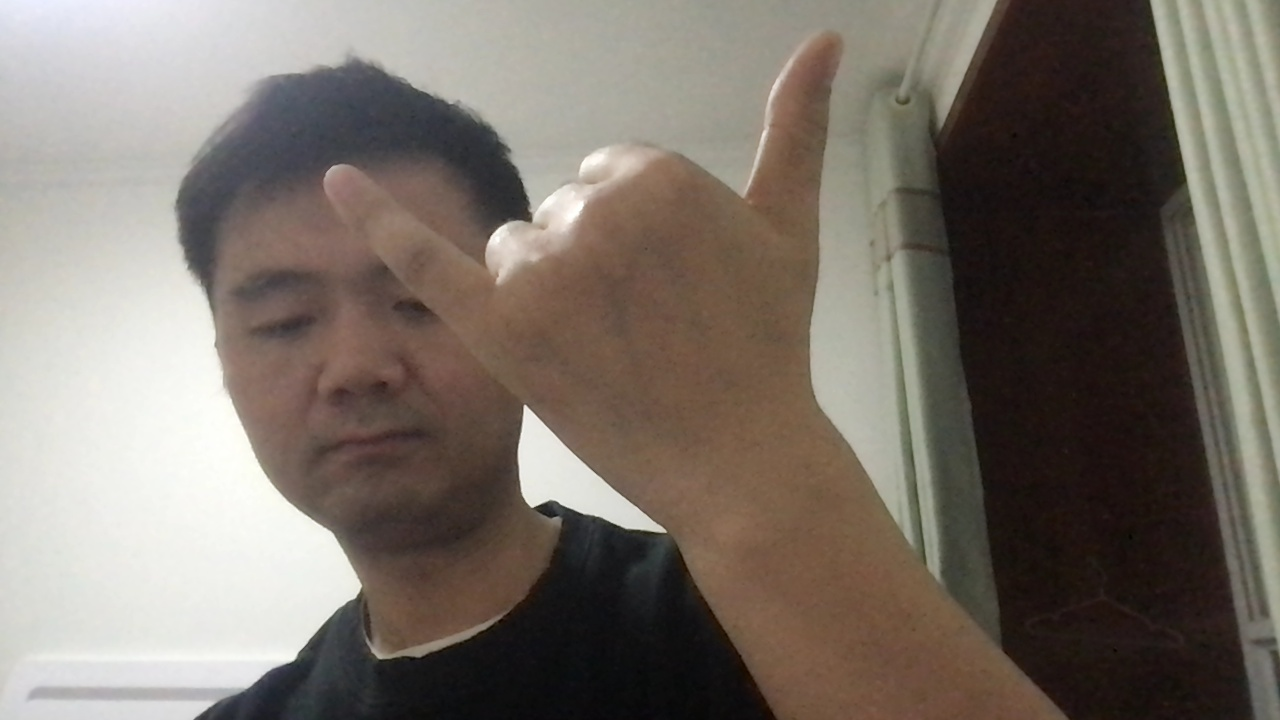iloveyou: (339, 26, 891, 519)
